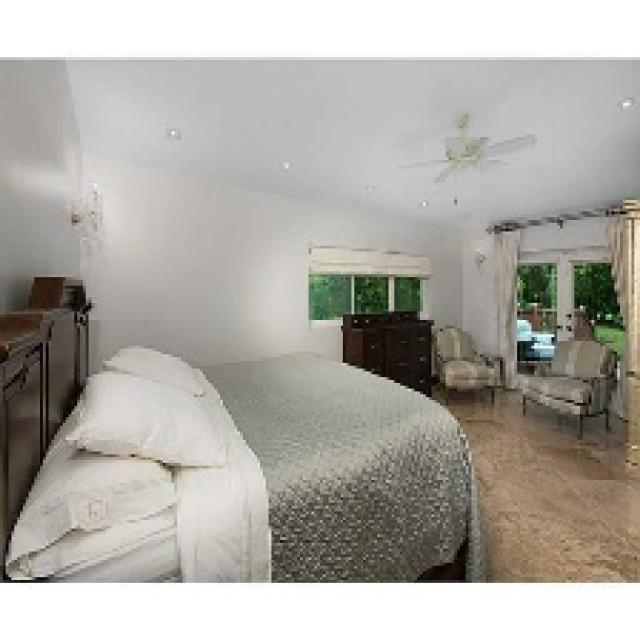Bed: (3, 346, 483, 580)
